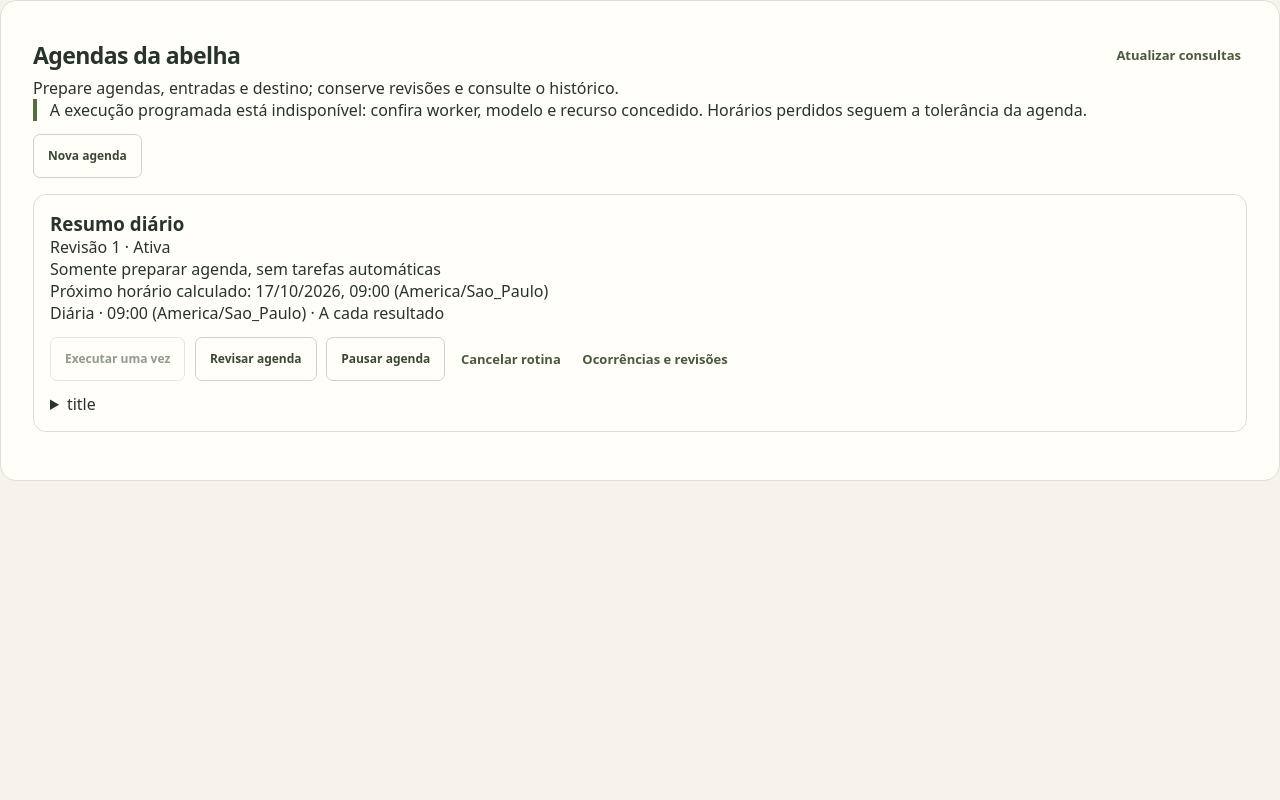
Test: human routine definitions › loads canonical next/history using reads only and explicitly identifies scheduler unavailability
This screenshot has width=1280, height=800.
Expected: the text "17/10/2026, 09:00 (America/Sao_Paulo)" is shown, [256,280,548,302]
What coordinates should you click on to do the following:
click the button "Ocorrências e revisões"
I would click on:
 (655, 359)
Its box is [576,337,734,381].
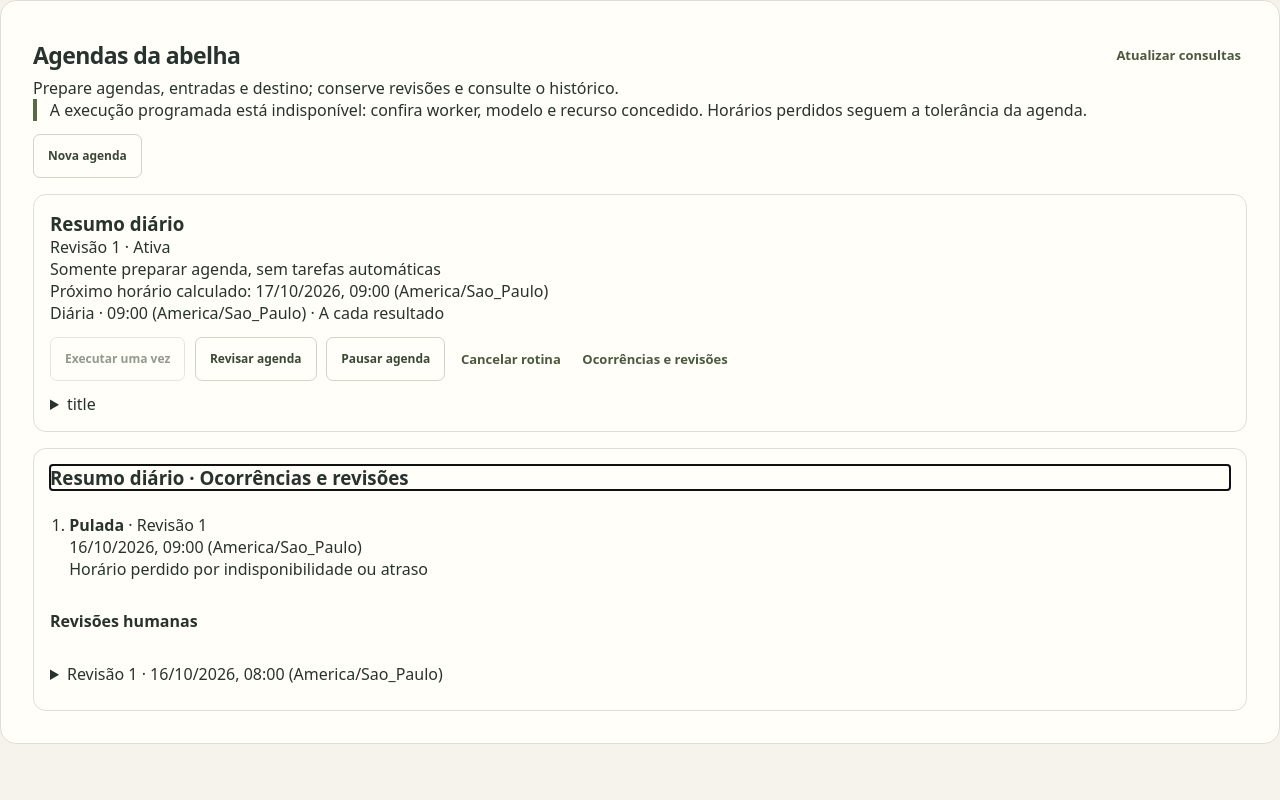
Now the text "Horário perdido por indisponibilidade ou atraso" is shown, box [69,558,428,580]
Now the text "Revisões humanas" is shown, box [50,610,198,632]
